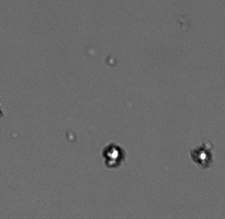Living Cell: (102, 144, 123, 167), (191, 144, 212, 166)
